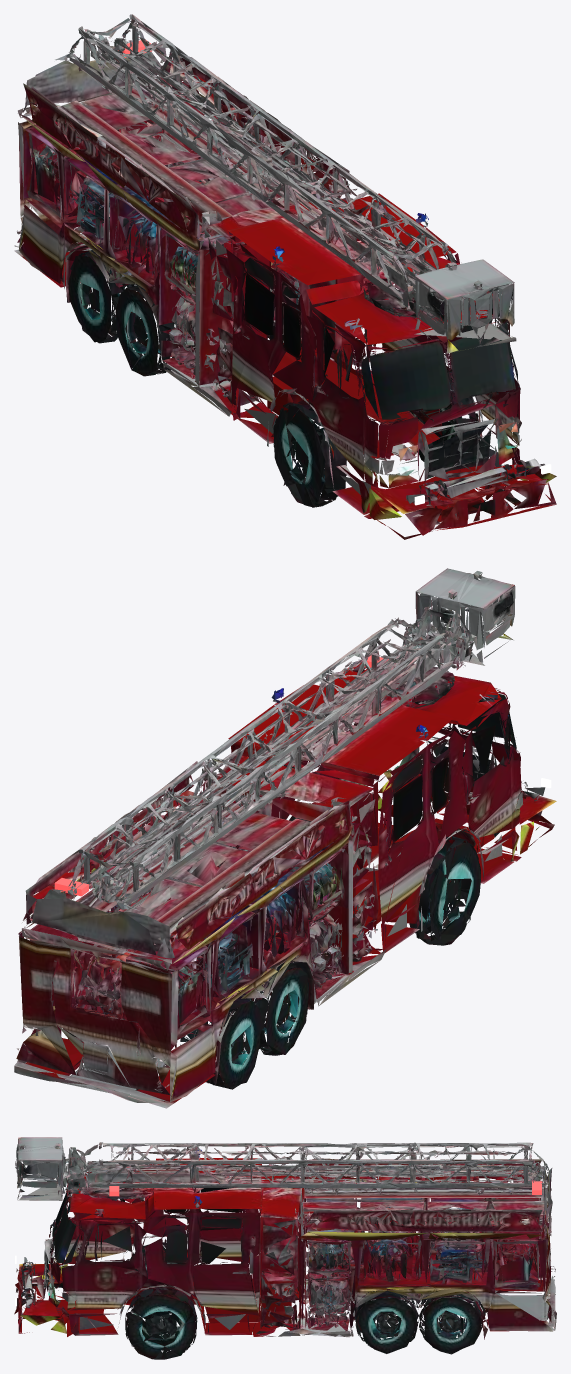
The model's file is fire-cyber.glb.
3 renders of one model, top to bottom at view 1: azimuth 30°, elevation 25°; view 2: azimuth 150°, elevation 25°; view 3: azimuth 270°, elevation 25°, orthographic. The views are drawn at different scales.
Parts seen in each view (by area): view 1: Body, LadderMesh, wheel_0R, wheel_1R, wheel_2R, wheel_0L; view 2: Body, LadderMesh, wheel_0R, wheel_1R, wheel_2R; view 3: Body, LadderMesh, wheel_0L, wheel_1L, wheel_2L.
Part boxes in pixels (x1=…): Body: x1=14, y1=44, x2=556, y2=539; LadderMesh: x1=55, y1=14, x2=514, y2=340; wheel_0R: x1=273, y1=400, x2=346, y2=507; wheel_1R: x1=111, y1=281, x2=182, y2=376; wheel_2R: x1=60, y1=245, x2=133, y2=343; wheel_0L: x1=409, y1=366, x2=480, y2=462; Body: x1=14, y1=623, x2=556, y2=1108; LadderMesh: x1=51, y1=568, x2=515, y2=910; wheel_0R: x1=409, y1=836, x2=480, y2=945; wheel_1R: x1=244, y1=960, x2=316, y2=1055; wheel_2R: x1=197, y1=993, x2=261, y2=1089; Body: x1=14, y1=1154, x2=556, y2=1346; LadderMesh: x1=15, y1=1137, x2=548, y2=1203; wheel_0L: x1=125, y1=1287, x2=197, y2=1359; wheel_1L: x1=349, y1=1290, x2=424, y2=1353; wheel_2L: x1=420, y1=1294, x2=488, y2=1354.
Bounding box in the file's own units: 2.75 × 4.09 × 10.53.
Materials: 4 (1 with a texture image).
